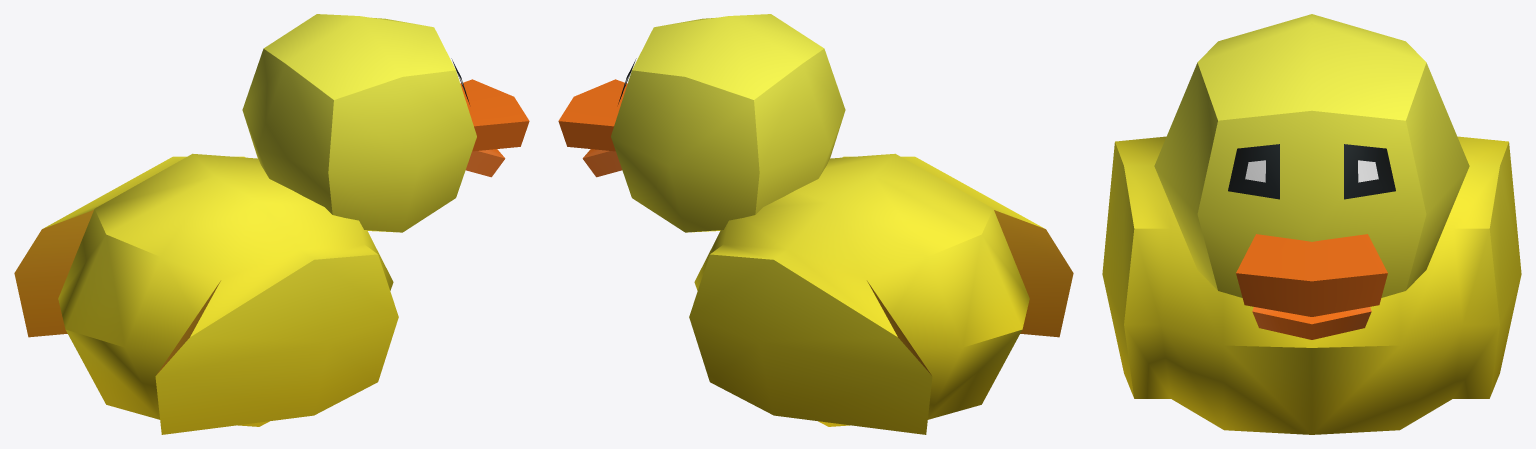
The model's file is SM_Duck.fbx.
3 views of the same model, side by side, from view 1: azimuth 30°, elevation 25°; view 2: azimuth 150°, elevation 25°; view 3: azimuth 270°, elevation 25° (orthographic). The views are drawn at different scales.
Visible parts, largest first — view 1: Cube.068; view 2: Cube.068; view 3: Cube.068.
Boxes of the visible parts, x1,y1,x2,y2 form: Cube.068: (14, 14, 529, 434); Cube.068: (558, 14, 1073, 434); Cube.068: (1102, 14, 1521, 434).
Size of the model in its own units: 147 by 113 by 89.47.
